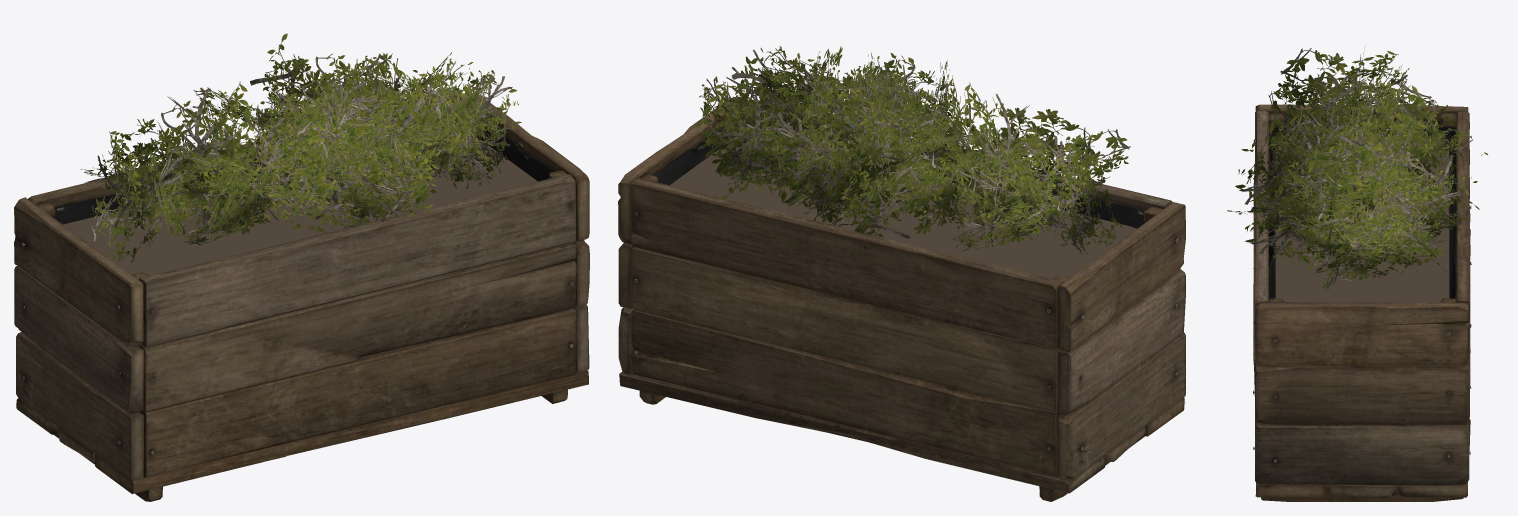
Rendered from planter.glb.
The picture shows the model from 3 angles, left to right: view 1: azimuth 30°, elevation 25°; view 2: azimuth 150°, elevation 25°; view 3: azimuth 270°, elevation 25°; orthographic projection. The views are drawn at different scales.
Parts seen in each view (by area): view 1: planter, planter_shrub, Plane; view 2: planter, planter_shrub, Plane; view 3: planter, planter_shrub, Plane.
Boxes of the visible parts, x1,y1,x2,y2 form: planter: [14, 93, 589, 501]; planter_shrub: [80, 33, 523, 262]; Plane: [63, 138, 537, 275]; planter: [618, 96, 1185, 501]; planter_shrub: [695, 46, 1130, 256]; Plane: [670, 137, 1136, 278]; planter: [1253, 104, 1471, 501]; planter_shrub: [1227, 47, 1487, 293]; Plane: [1275, 136, 1449, 302].
Bounding box in the file's own units: 1.28 × 0.9934 × 0.7657.
Materials: 3 (2 with a texture image).
